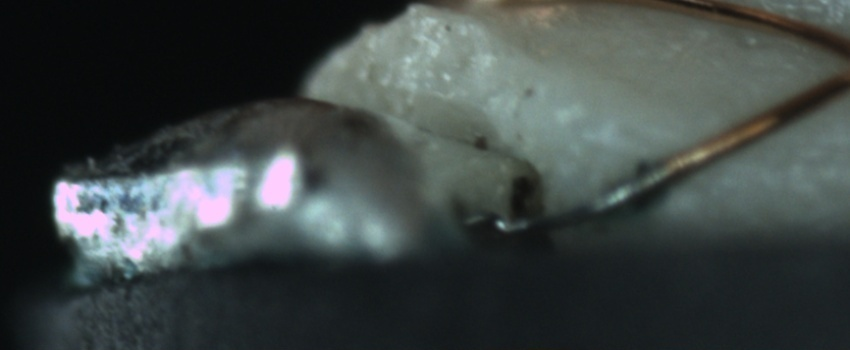DL: (711, 139, 849, 186)
TS: (501, 162, 671, 241)
